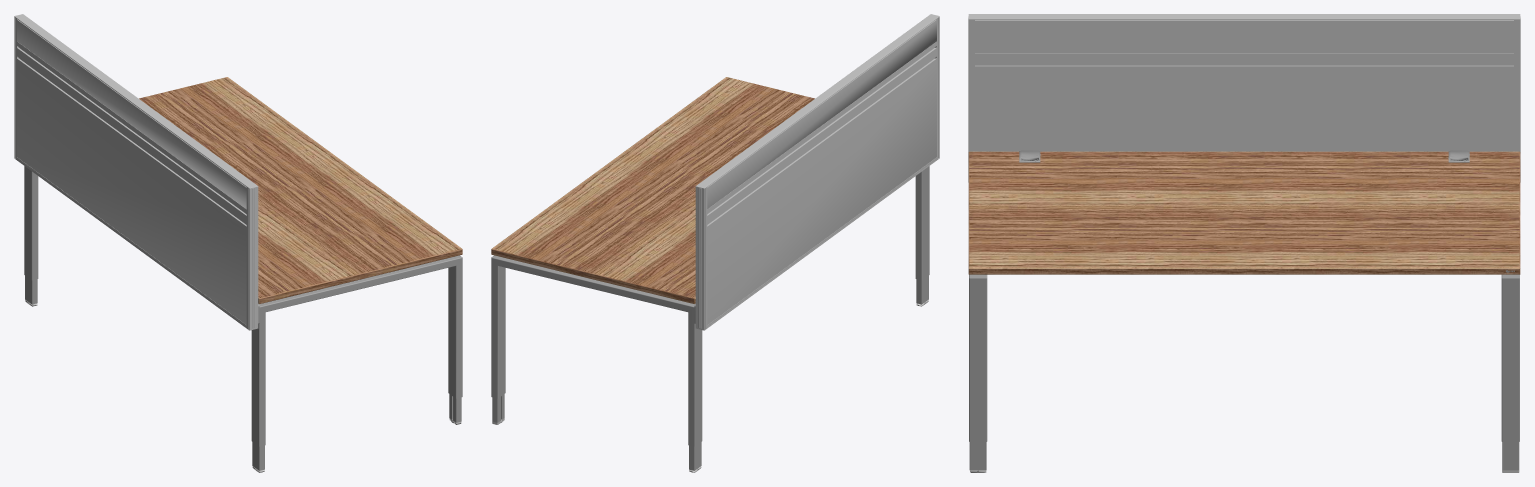
Rendered from Table_puron_180x90_screen_FINAL.fbx.
3 views of the same model, side by side, from view 1: azimuth 30°, elevation 25°; view 2: azimuth 150°, elevation 25°; view 3: azimuth 270°, elevation 25° (orthographic). The views are drawn at different scales.
Visible parts, largest first — view 1: blat_mesh1, screen_mesh, reling_mesh, metal_mesh2; view 2: blat_mesh1, screen_mesh, reling_mesh, metal_mesh2; view 3: blat_mesh1, screen_mesh, reling_mesh, metal_mesh2.
Part boxes in pixels (left/top/right/bottom): blat_mesh1: left=139, top=77, right=462, bottom=303; screen_mesh: left=17, top=21, right=246, bottom=324; reling_mesh: left=14, top=14, right=258, bottom=330; metal_mesh2: left=24, top=166, right=462, bottom=470; blat_mesh1: left=491, top=77, right=814, bottom=303; screen_mesh: left=707, top=21, right=936, bottom=324; reling_mesh: left=695, top=14, right=939, bottom=330; metal_mesh2: left=491, top=166, right=929, bottom=470; blat_mesh1: left=968, top=151, right=1520, bottom=274; screen_mesh: left=975, top=22, right=1513, bottom=151; reling_mesh: left=968, top=14, right=1520, bottom=182; metal_mesh2: left=969, top=150, right=1519, bottom=470.
Bounding box in the file's own units: 94.3 × 122 × 180.
